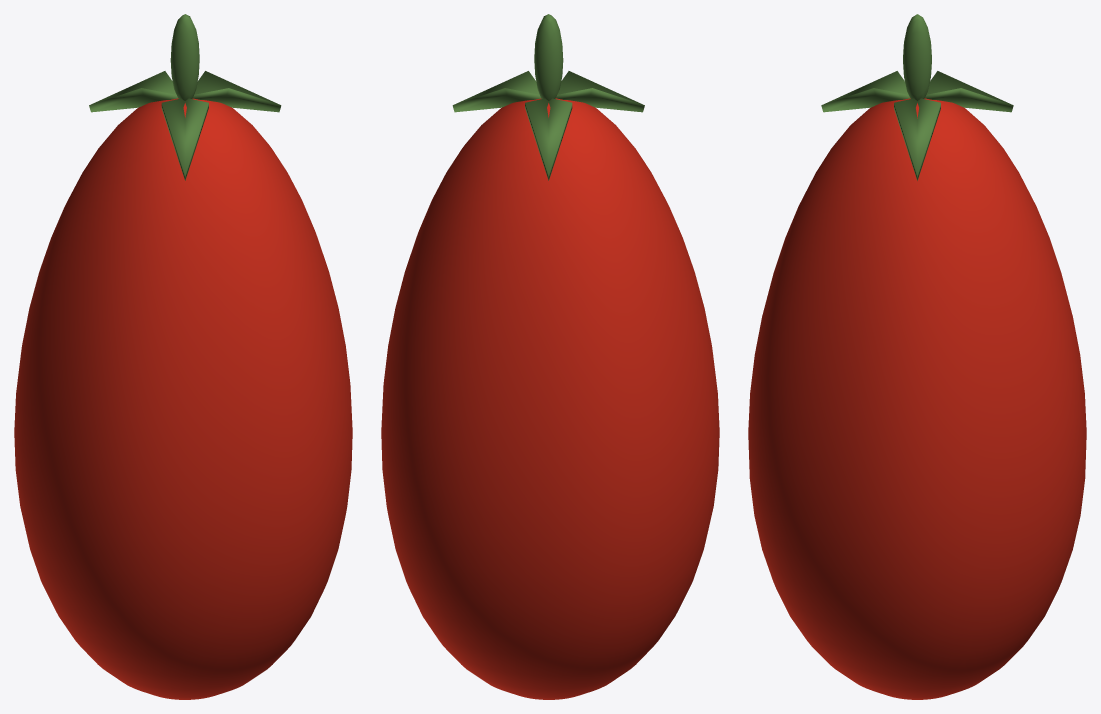
Rendered from roma.glb.
The picture shows the model from 3 angles, left to right: view 1: azimuth 30°, elevation 25°; view 2: azimuth 150°, elevation 25°; view 3: azimuth 270°, elevation 25°; orthographic projection.
Parts seen in each view (by area): view 1: Roma, Calyx leaf.001, Stem, Calyx leaf.002, Calyx leaf; view 2: Roma, Calyx leaf.002, Stem, Calyx leaf.001, Calyx leaf; view 3: Roma, Calyx leaf, Stem, Calyx leaf.001, Calyx leaf.002.
Boxes of the visible parts, x1=… form: Roma: x1=14, y1=98, x2=352, y2=699; Calyx leaf.001: x1=161, y1=98, x2=208, y2=180; Stem: x1=170, y1=14, x2=199, y2=100; Calyx leaf.002: x1=89, y1=71, x2=177, y2=112; Calyx leaf: x1=193, y1=71, x2=281, y2=112; Roma: x1=381, y1=98, x2=719, y2=699; Calyx leaf.002: x1=525, y1=98, x2=572, y2=180; Stem: x1=534, y1=14, x2=563, y2=100; Calyx leaf.001: x1=556, y1=71, x2=644, y2=112; Calyx leaf: x1=452, y1=71, x2=540, y2=112; Roma: x1=748, y1=98, x2=1086, y2=699; Calyx leaf: x1=894, y1=98, x2=940, y2=180; Stem: x1=903, y1=14, x2=931, y2=100; Calyx leaf.001: x1=821, y1=71, x2=909, y2=112; Calyx leaf.002: x1=925, y1=71, x2=1013, y2=112.
Bounding box in the file's own units: 0.8087 × 1.78 × 0.8087.
